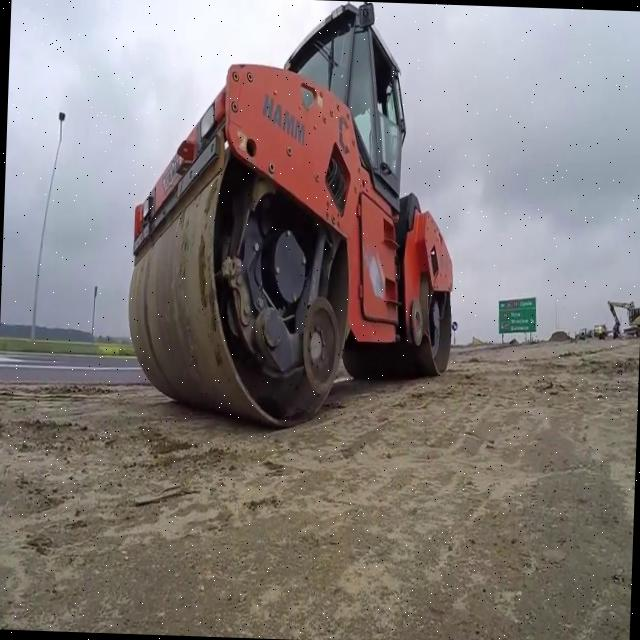Excavator: (604, 291, 640, 340)
Roller: (125, 0, 463, 434)
